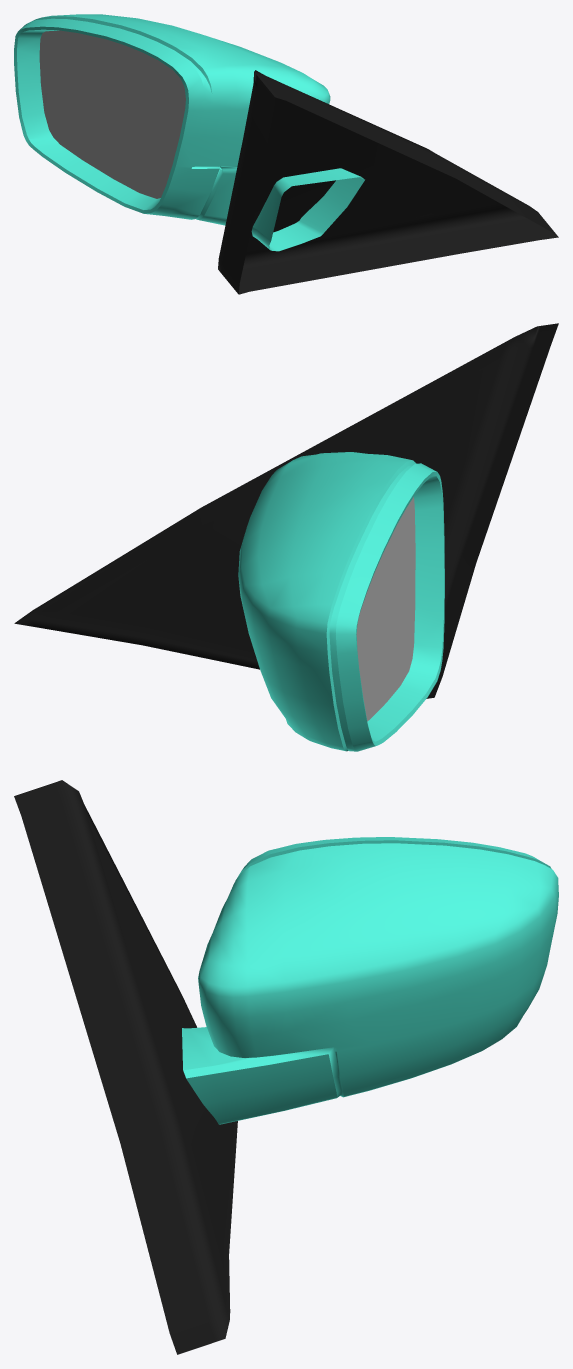
The picture shows the model from 3 angles, top to bottom: view 1: azimuth 30°, elevation 25°; view 2: azimuth 150°, elevation 25°; view 3: azimuth 270°, elevation 25°; orthographic projection. The views are drawn at different scales.
Visible parts, largest first — view 1: H025_10_261I_L_H025_10_261I_L_2_D, H025_10_261I_L_1_DaS_H025_10_261I_L, H025_10_261I_L_H025_10_261I_L_3_DTaSI, H025_10_261I_L_1_DaS_H025_10_261I_L_E; view 2: H025_10_261I_L_H025_10_261I_L_2_D, H025_10_261I_L_1_DaS_H025_10_261I_L, H025_10_261I_L_H025_10_261I_L_3_DTaSI, H025_10_261I_L_1_DaS_H025_10_261I_L_E; view 3: H025_10_261I_L_1_DaS_H025_10_261I_L, H025_10_261I_L_H025_10_261I_L_2_D, H025_10_261I_L_1_DaS_H025_10_261I_L_E.
Boxes of the visible parts, bbox=[...] form: H025_10_261I_L_H025_10_261I_L_2_D: bbox=[218, 70, 558, 294]; H025_10_261I_L_1_DaS_H025_10_261I_L: bbox=[17, 14, 364, 251]; H025_10_261I_L_H025_10_261I_L_3_DTaSI: bbox=[39, 30, 185, 198]; H025_10_261I_L_1_DaS_H025_10_261I_L_E: bbox=[14, 16, 364, 220]; H025_10_261I_L_H025_10_261I_L_2_D: bbox=[14, 323, 558, 698]; H025_10_261I_L_1_DaS_H025_10_261I_L: bbox=[238, 452, 444, 751]; H025_10_261I_L_H025_10_261I_L_3_DTaSI: bbox=[356, 497, 415, 721]; H025_10_261I_L_1_DaS_H025_10_261I_L_E: bbox=[326, 460, 444, 751]; H025_10_261I_L_1_DaS_H025_10_261I_L: bbox=[182, 837, 558, 1124]; H025_10_261I_L_H025_10_261I_L_2_D: bbox=[14, 780, 237, 1354]; H025_10_261I_L_1_DaS_H025_10_261I_L_E: bbox=[183, 840, 551, 1097].
Size of the model in its own units: 34.06 by 23.09 by 31.76.
